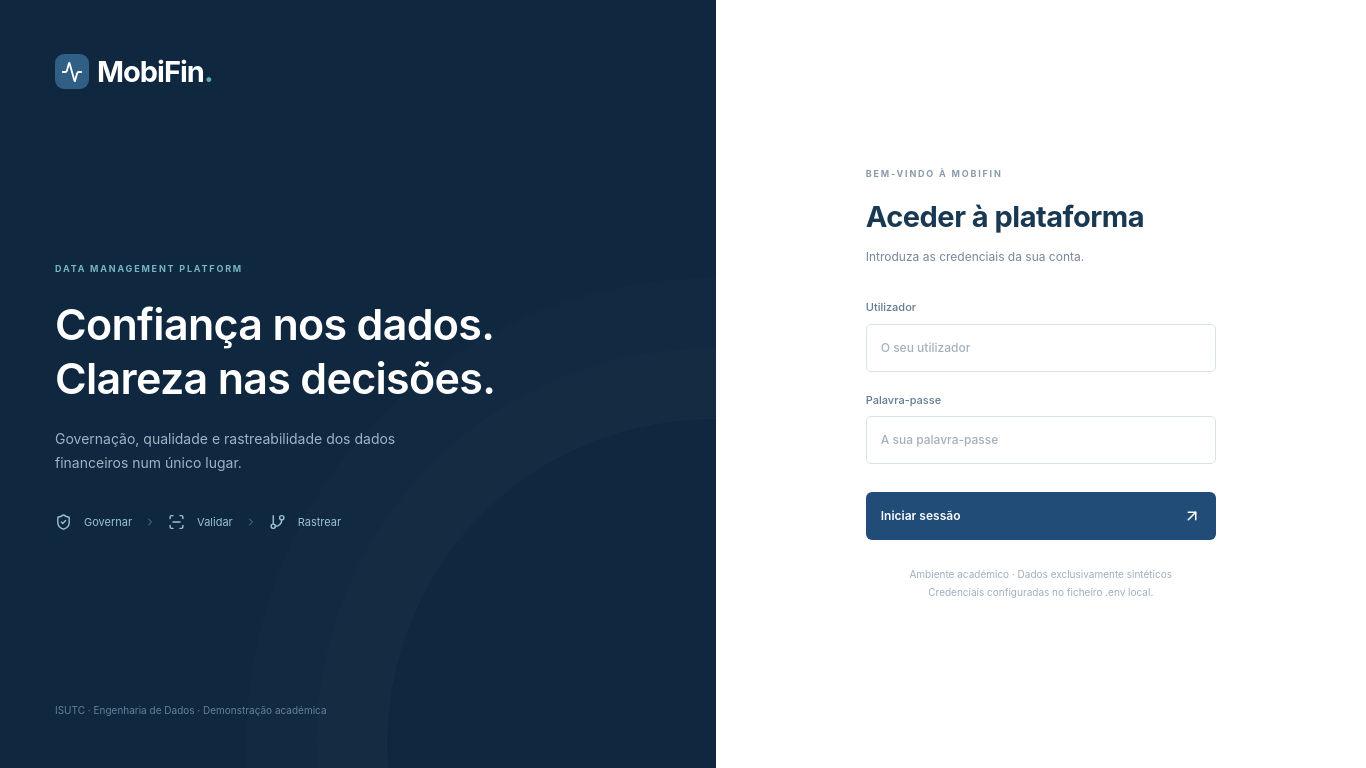
Test: Interface e autenticação › submete credenciais para a API e apresenta o erro
The image size is (1366, 768).
Type "admin" into the field labelled "Utilizador".
click(1041, 348); type("admin")  # box x1=866 y1=324 x2=1216 y2=372
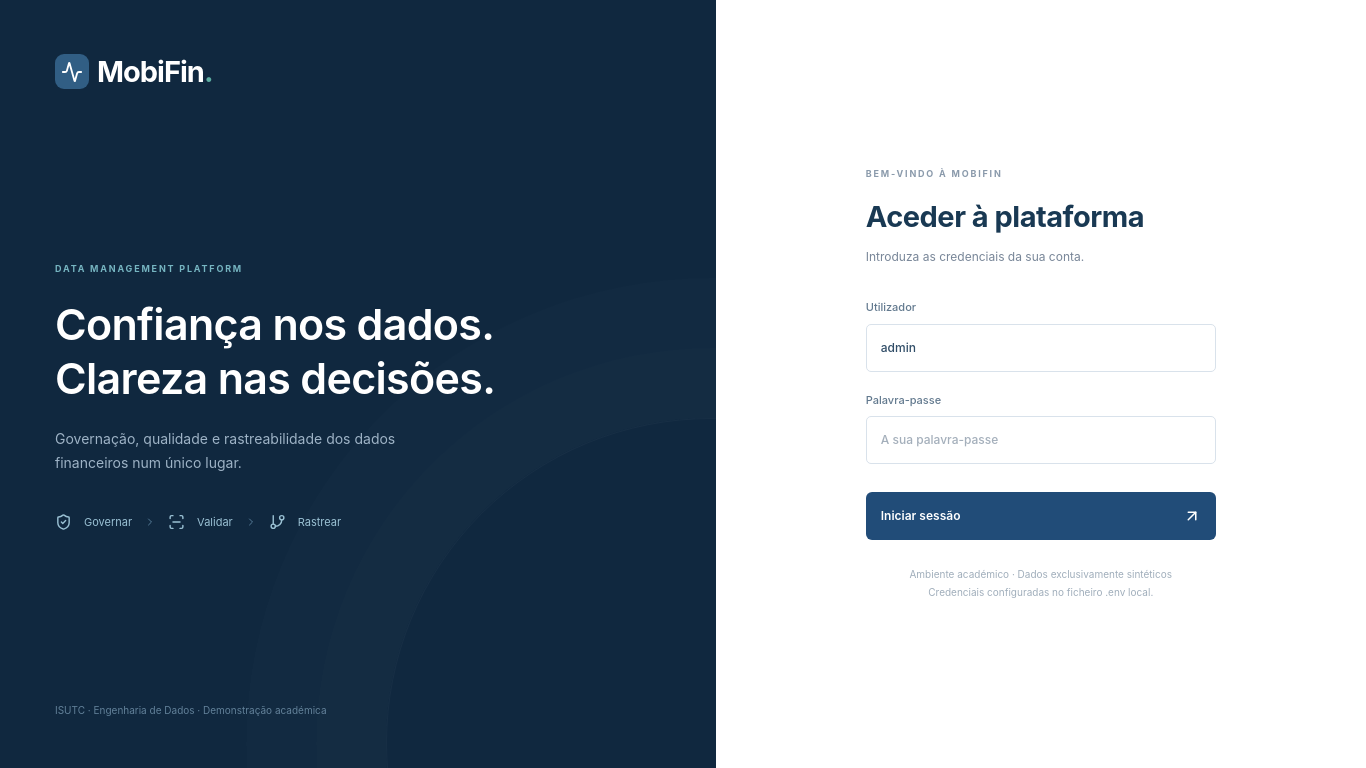
Type "incorrecta" into the password field labelled "Palavra-passe".
click(1041, 440); type("incorrecta")  # box x1=866 y1=416 x2=1216 y2=464
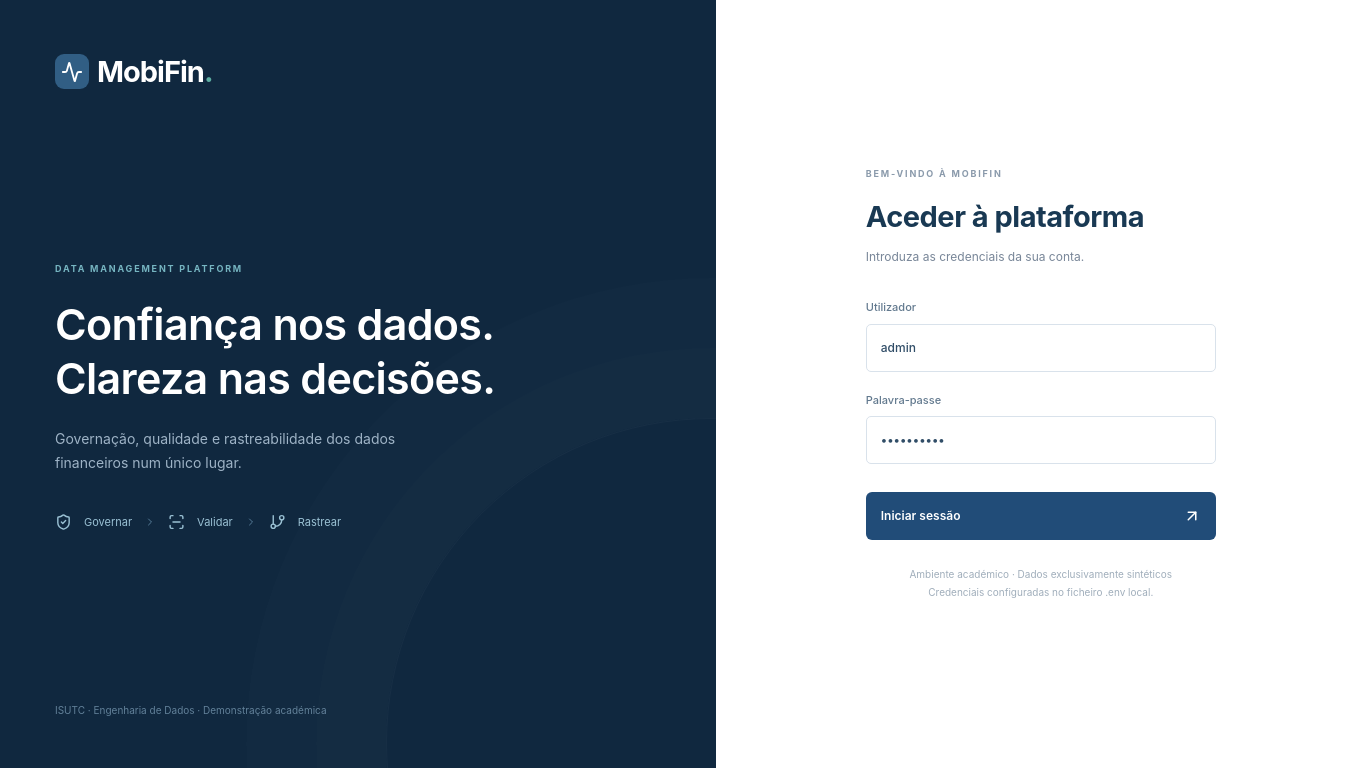
Click the button "Iniciar sessão".
click(921, 516)  # box x1=866 y1=492 x2=1216 y2=540
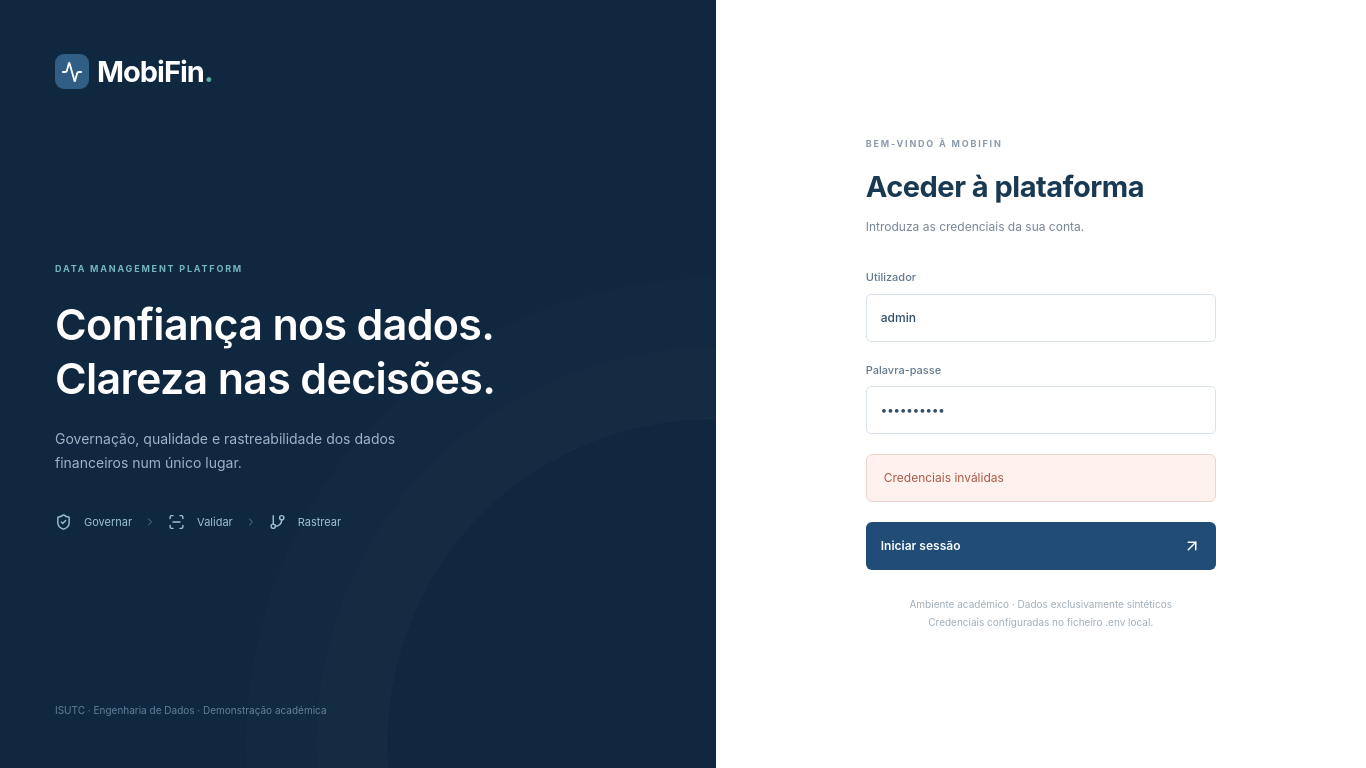
Check: the message reads "Credenciais inválidas", box x1=884 y1=470 x2=1004 y2=485
